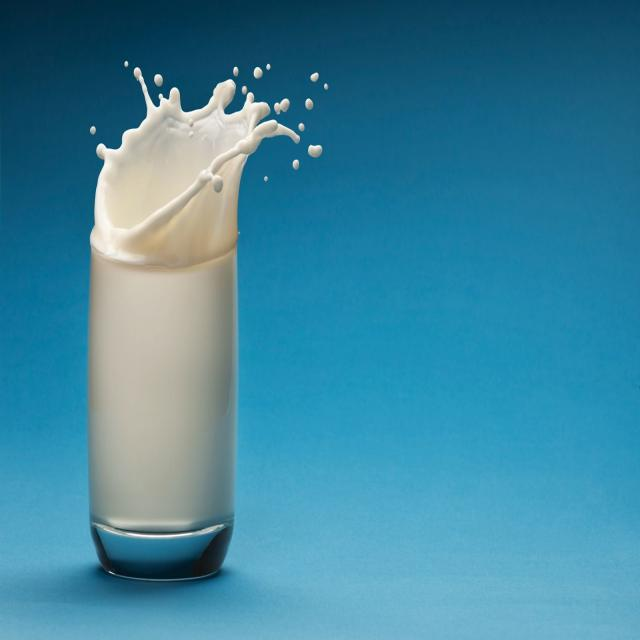Milk carton/jug: (86, 88, 241, 538)
